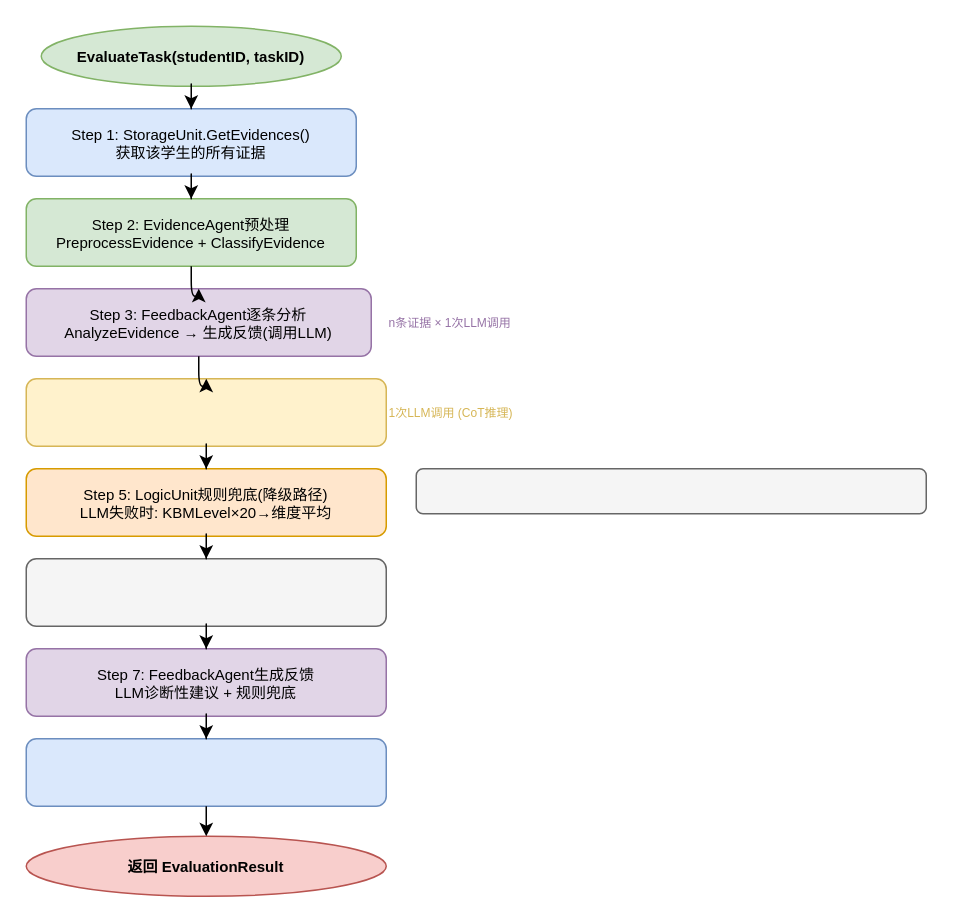
The diagram is 953 pixels wide and 923 high, and some of its shapes have lost their labels. Here are the shapes that lost their labels. From the top down, the centre of each, then its label:
At point (205, 411): "Step 4: InferenceAgent LLM推理(主路径) InferWithLLM→四维度评分+证据引用".
At point (670, 490): "OverallScore = 0.25×D1 + 0.25×D2 + 0.25×D3 + 0.25×D4".
At point (205, 591): "Step 6: StorageUnit持久化 SaveResult + StoreCitations + UpdateGraph".
At point (205, 771): "Step 8: GenerateReport() 综合报告(雷达图/对比/建议/引用)".
